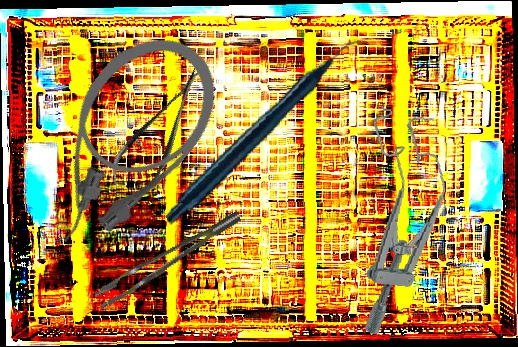Cannula: (4, 14, 241, 267)
Handpiece: (145, 37, 388, 227)
Micro Scissor: (92, 57, 221, 219)
Speculum: (347, 104, 455, 341)
Tissue Forceps: (87, 211, 251, 309)
